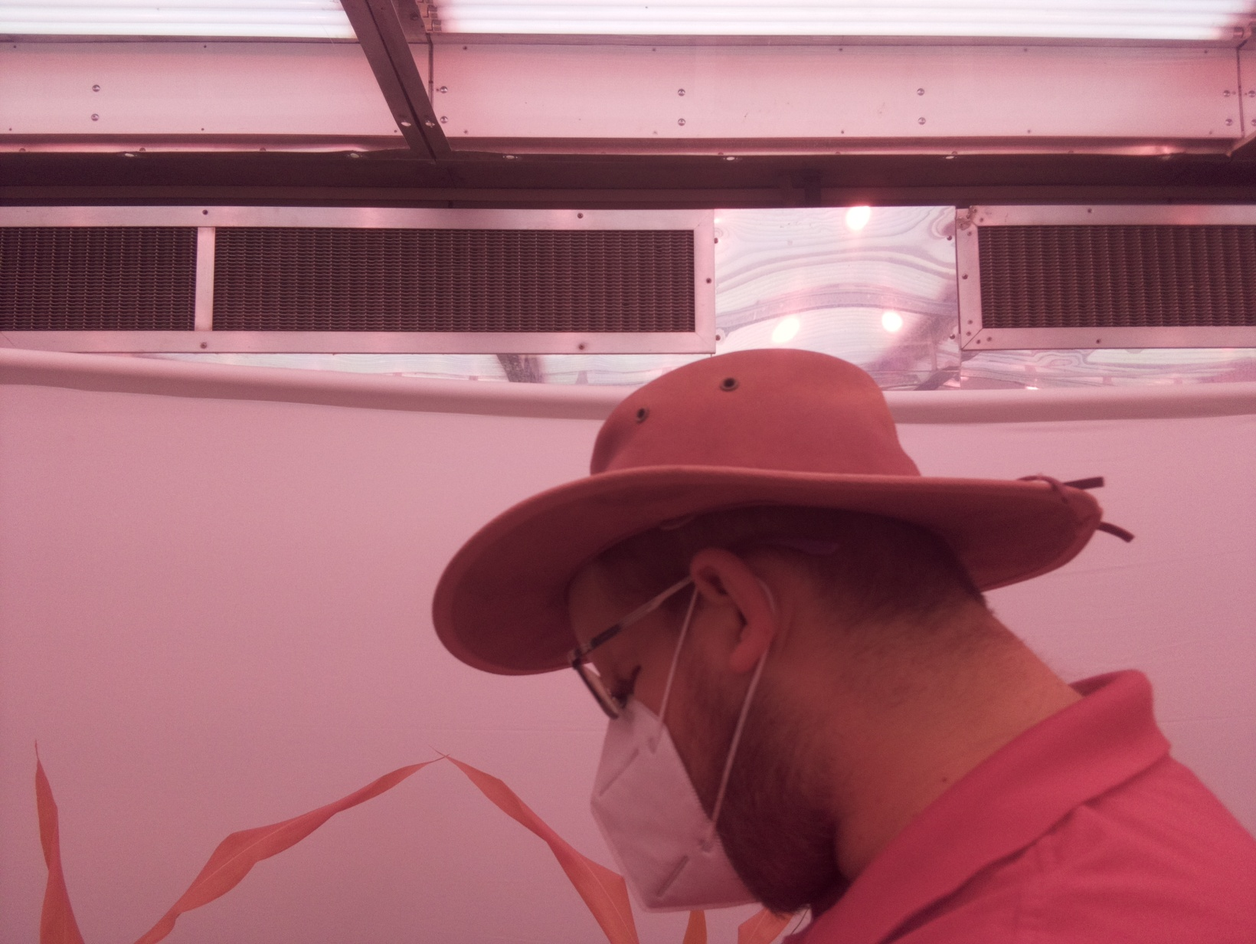maize: (33, 738, 443, 944), (435, 756, 590, 944)
